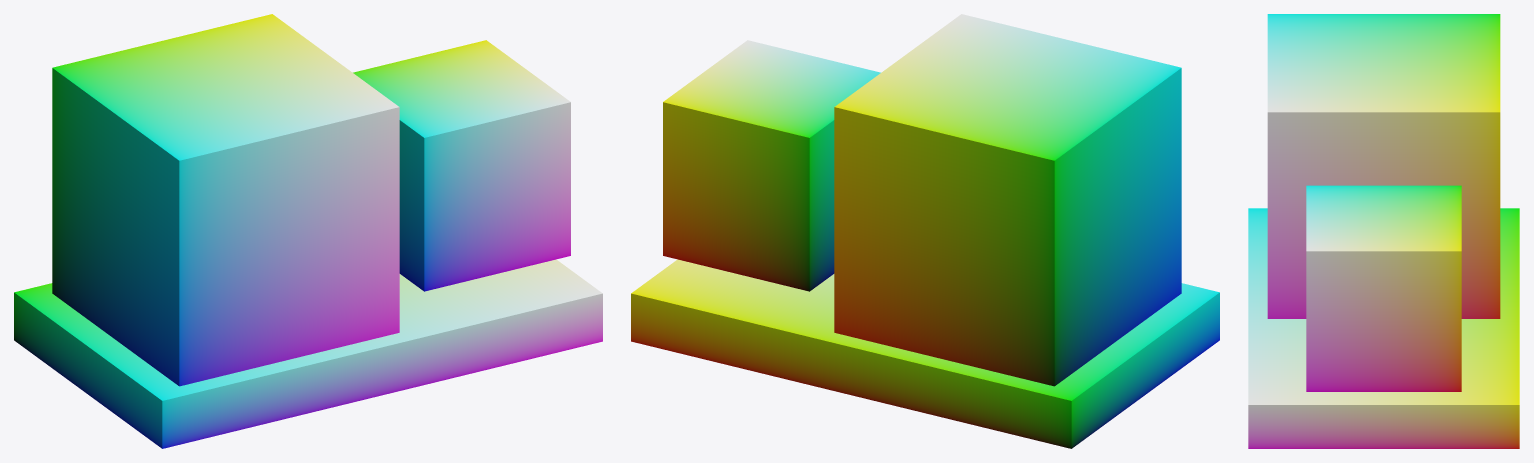
Rendered from colors.glb.
3 views of the same model, side by side, from view 1: azimuth 30°, elevation 25°; view 2: azimuth 150°, elevation 25°; view 3: azimuth 270°, elevation 25° (orthographic). The views are drawn at different scales.
Parts seen in each view (by area): view 1: Housing, Base, Motor; view 2: Housing, Base, Motor; view 3: Housing, Motor, Base.
Boxes of the visible parts, x1,y1,x2,y2 form: Housing: [52, 14, 399, 386]; Base: [14, 259, 602, 448]; Motor: [353, 40, 570, 291]; Housing: [834, 14, 1181, 386]; Base: [631, 259, 1219, 448]; Motor: [663, 40, 880, 291]; Housing: [1267, 14, 1500, 318]; Motor: [1306, 185, 1461, 391]; Base: [1248, 208, 1519, 448].
Size of the model in its own units: 2.4 by 1.42 by 1.4.
